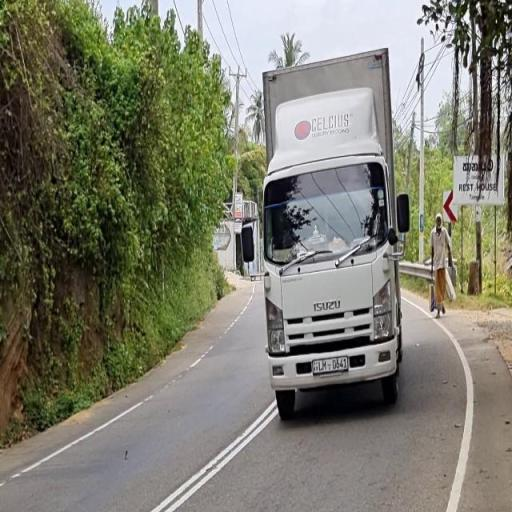double_white_line: (149, 401, 277, 512)
